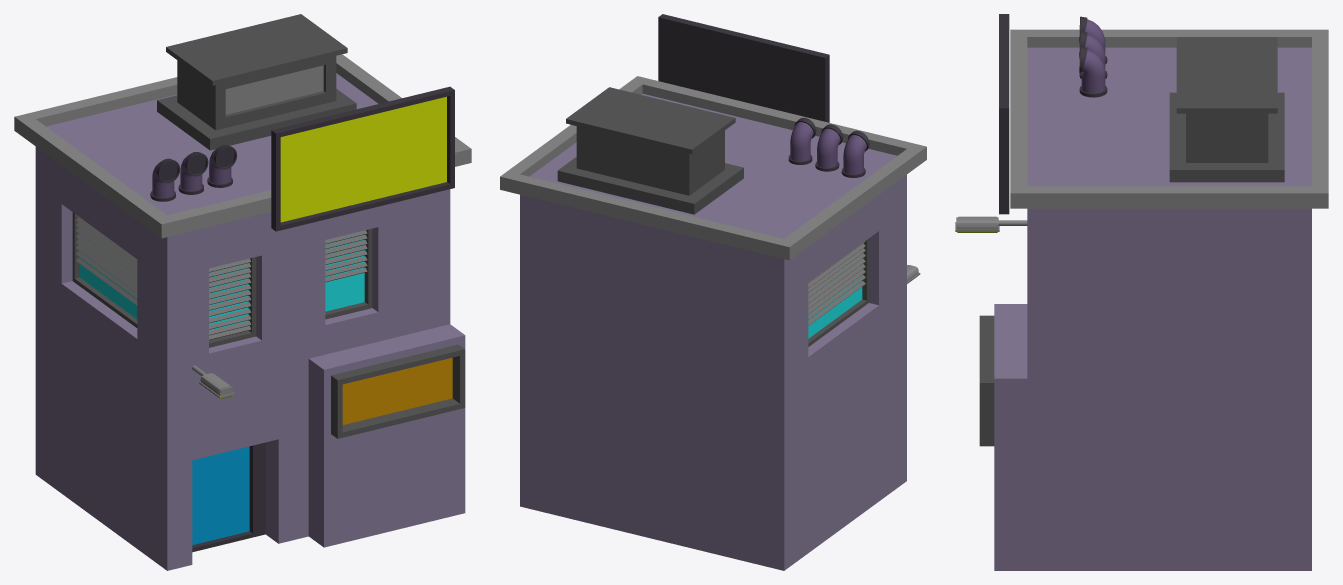
Rendered from House2.fbx.
The picture shows the model from 3 angles, left to right: view 1: azimuth 30°, elevation 25°; view 2: azimuth 150°, elevation 25°; view 3: azimuth 270°, elevation 25°; orthographic projection. The views are drawn at different scales.
Parts seen in each view (by area): view 1: House_R_2; view 2: House_R_2; view 3: House_R_2.
Part boxes in pixels (x1,y1,x2,y2): House_R_2: [14, 14, 471, 570]; House_R_2: [500, 14, 926, 570]; House_R_2: [955, 14, 1328, 570].
Bounding box in the file's own units: 710 × 927 × 685.
